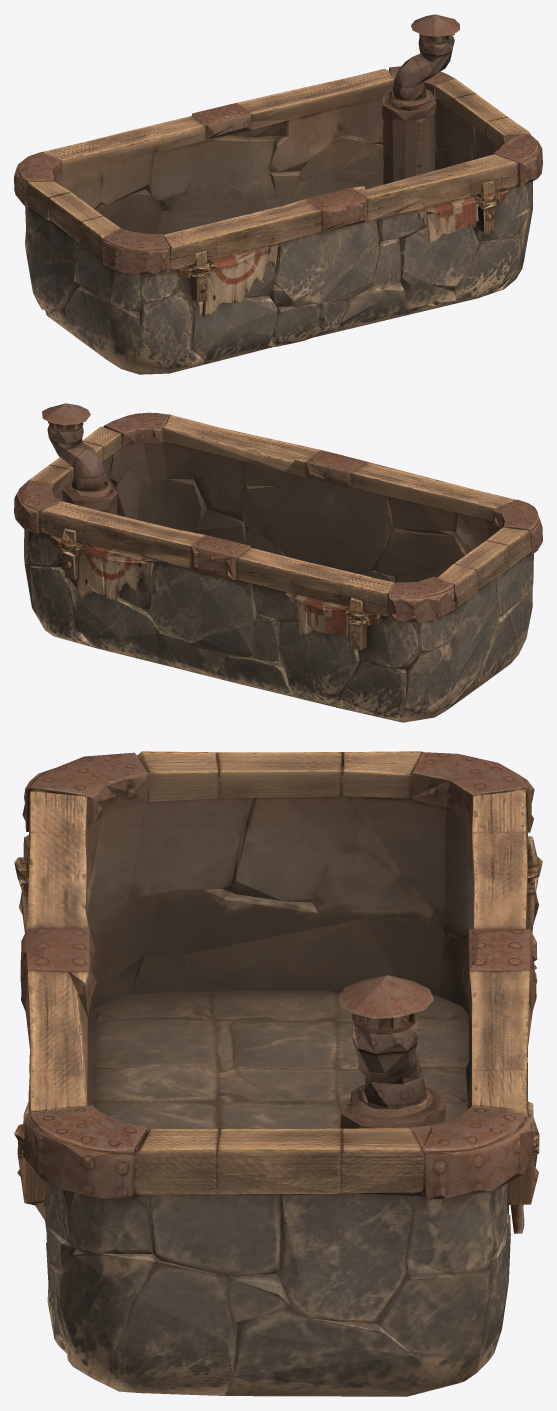
Rendered from medium-tub.glb.
3 renders of one model, top to bottom at view 1: azimuth 30°, elevation 25°; view 2: azimuth 150°, elevation 25°; view 3: azimuth 270°, elevation 25°, orthographic. The views are drawn at different scales.
Parts seen in each view (by area): view 1: output_unwrapped; view 2: output_unwrapped; view 3: output_unwrapped.
Part boxes in pixels (<box>): output_unwrapped: <box>14,14,542,374</box>; output_unwrapped: <box>14,403,542,722</box>; output_unwrapped: <box>14,751,542,1396</box>.
Size of the model in its own units: 1.9 by 0.9086 by 1.05.
Materials: 1 (1 with a texture image).
